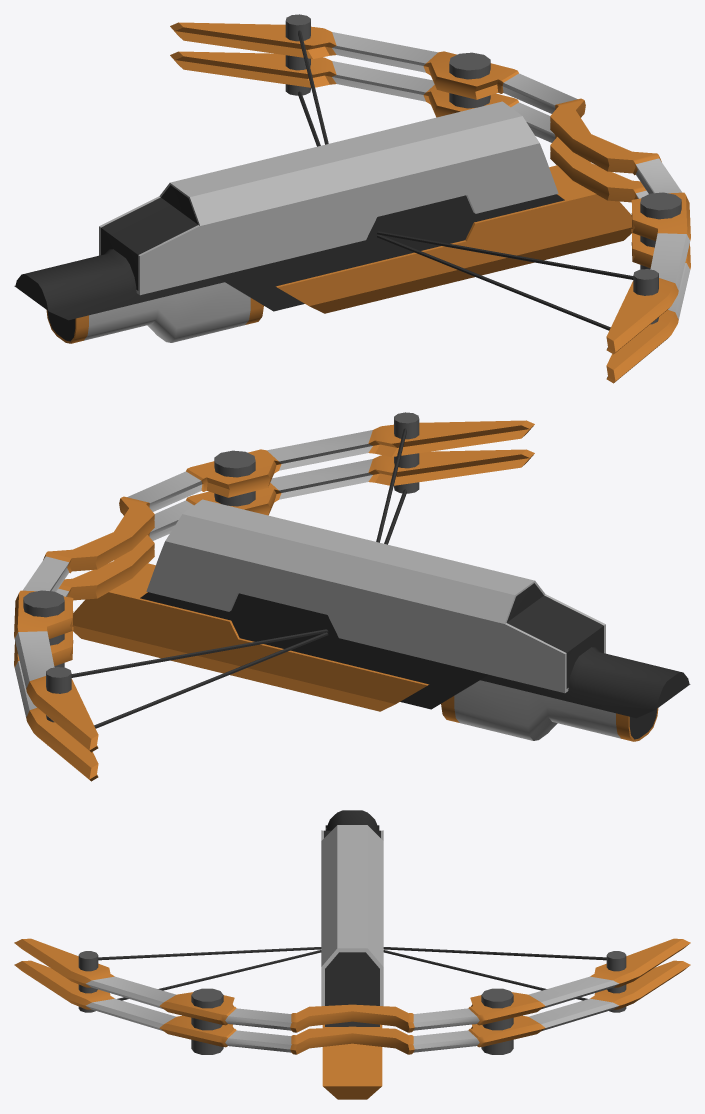
File: Body_Crossbow_2.gltf
3 views of the same model, one above another, from view 1: azimuth 30°, elevation 25°; view 2: azimuth 150°, elevation 25°; view 3: azimuth 270°, elevation 25° (orthographic). The views are drawn at different scales.
Visible parts, largest first — view 1: Body_Crossbow_2; view 2: Body_Crossbow_2; view 3: Body_Crossbow_2.
Part boxes in pixels (x1,y1,x2,y2): Body_Crossbow_2: (14,14,690,383); Body_Crossbow_2: (14,412,690,781); Body_Crossbow_2: (14,810,690,1099).
Bounding box in the file's own units: 1.47 × 0.3561 × 1.92.
